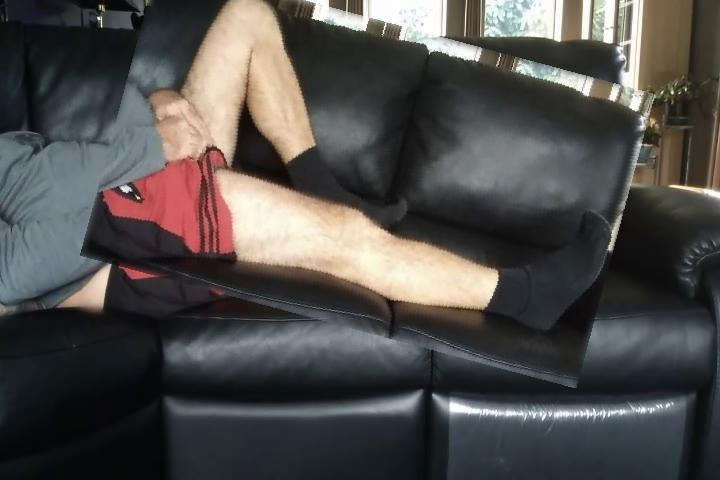lowerbody: (96, 1, 641, 358)
